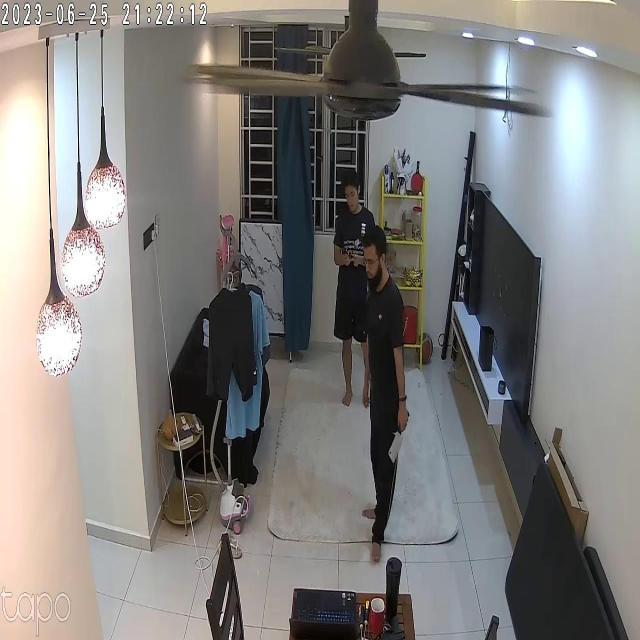Knife: (386, 418, 412, 468)
